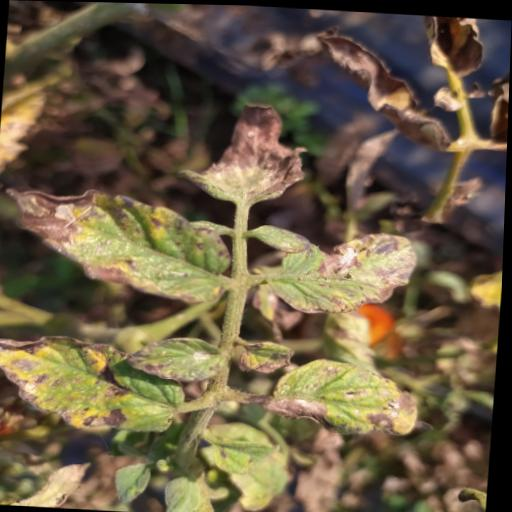Early Blight: (0, 184, 240, 306), (0, 326, 194, 437), (264, 348, 436, 438), (180, 97, 315, 208), (266, 223, 423, 318)
